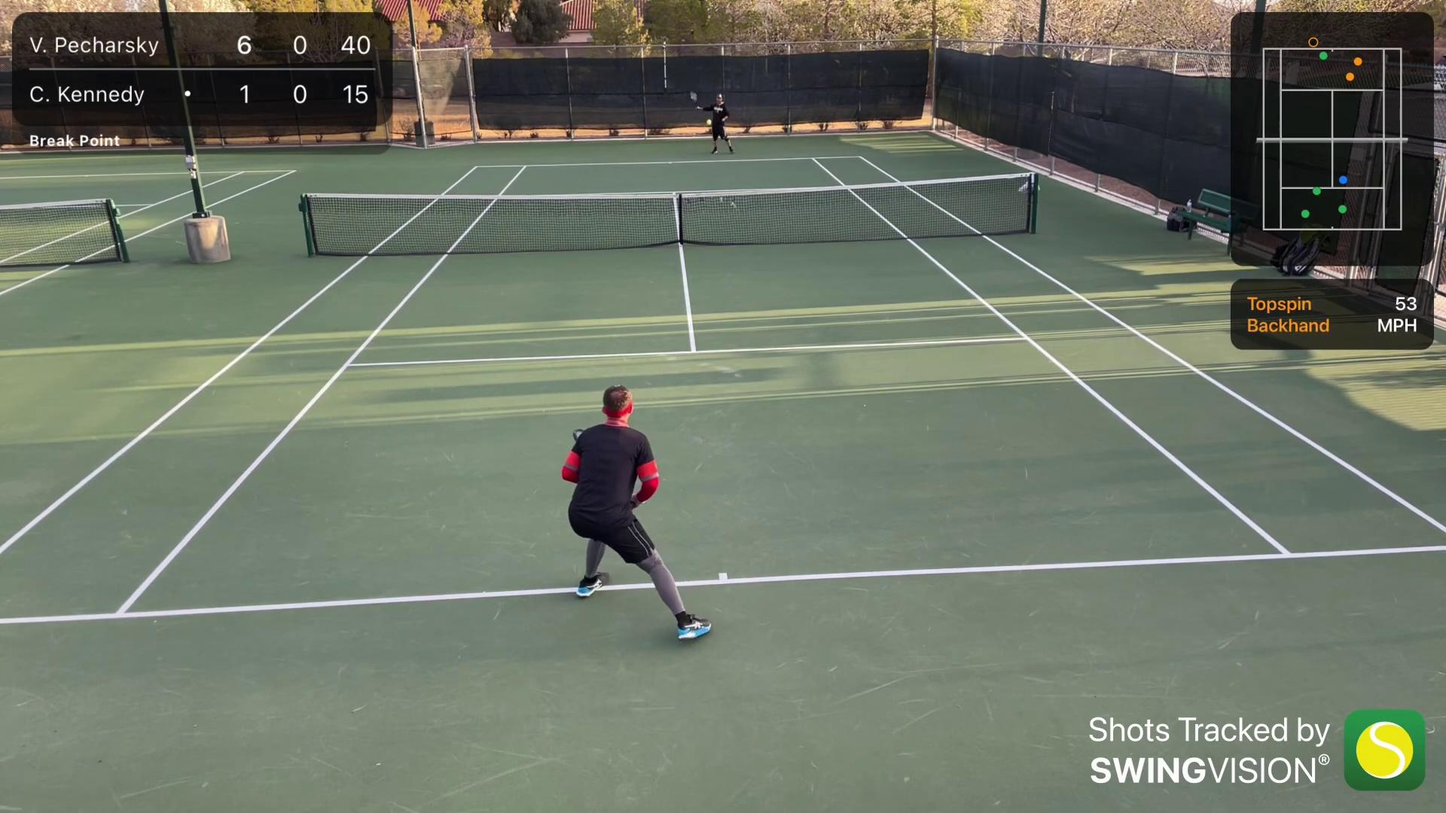ball: (705, 119, 713, 126), (342, 368, 345, 371)
